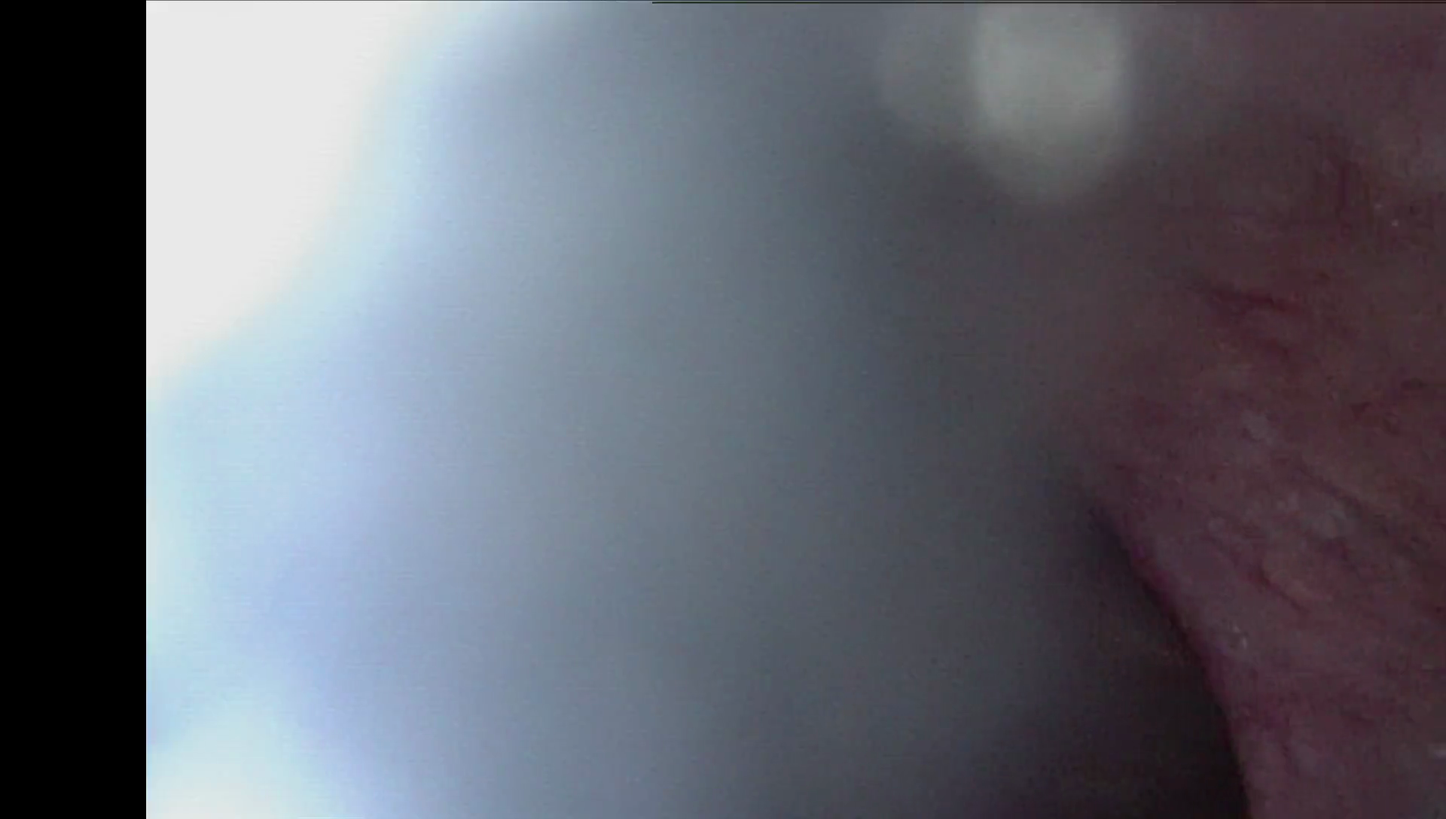next: (922, 431, 1290, 819)
